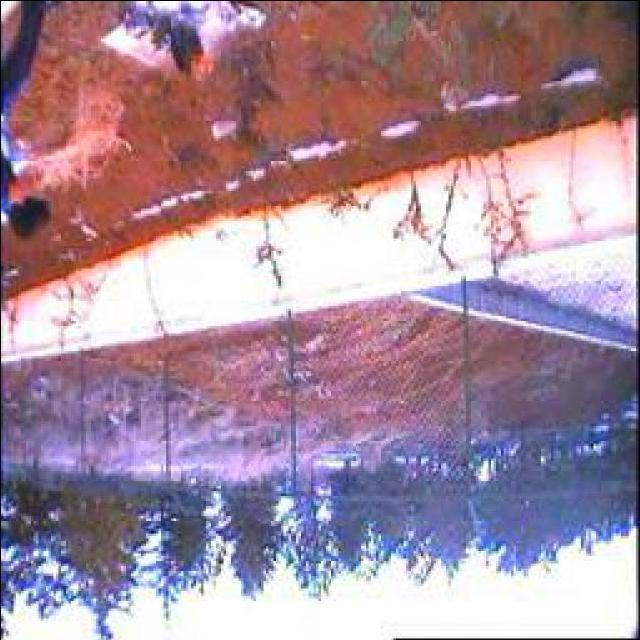Fire: (165, 28, 218, 83)
